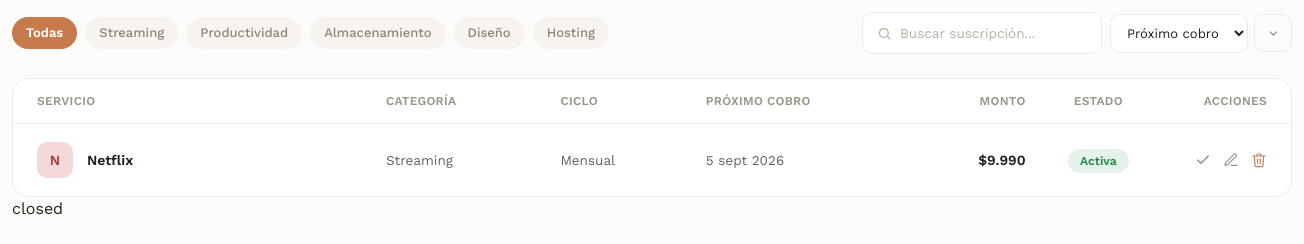
Test case: SubscriptionsTable › shows an empty message when no subscription matches the filter
This screenshot has width=1304, height=244.
In the field with placeholder "Buscar suscripción...": (994, 33) left=900, top=23, right=1087, bottom=43, type "nothing-matches"
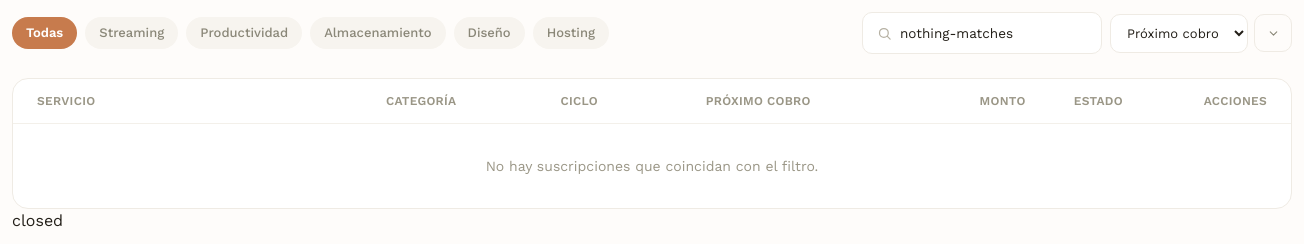
Expected: the text "No hay suscripciones que coincidan con el filtro." is shown, left=486, top=158, right=818, bottom=174
